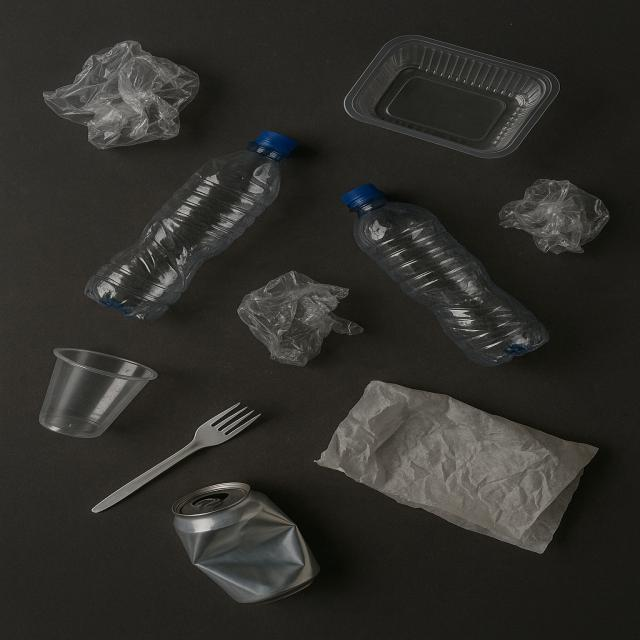aluminum: (170, 485, 321, 605)
paper: (320, 379, 601, 554)
plastic: (78, 129, 302, 323), (341, 182, 556, 364), (343, 36, 553, 160), (36, 343, 155, 445)
